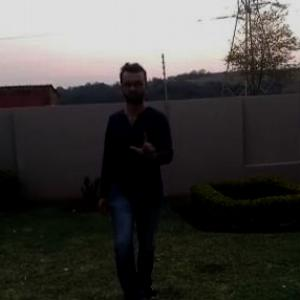land_hand: (127, 128, 163, 165)
